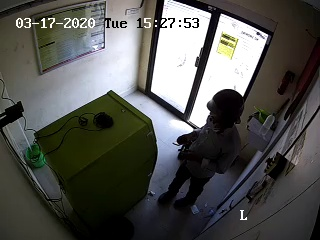helmet: (206, 86, 245, 136)
